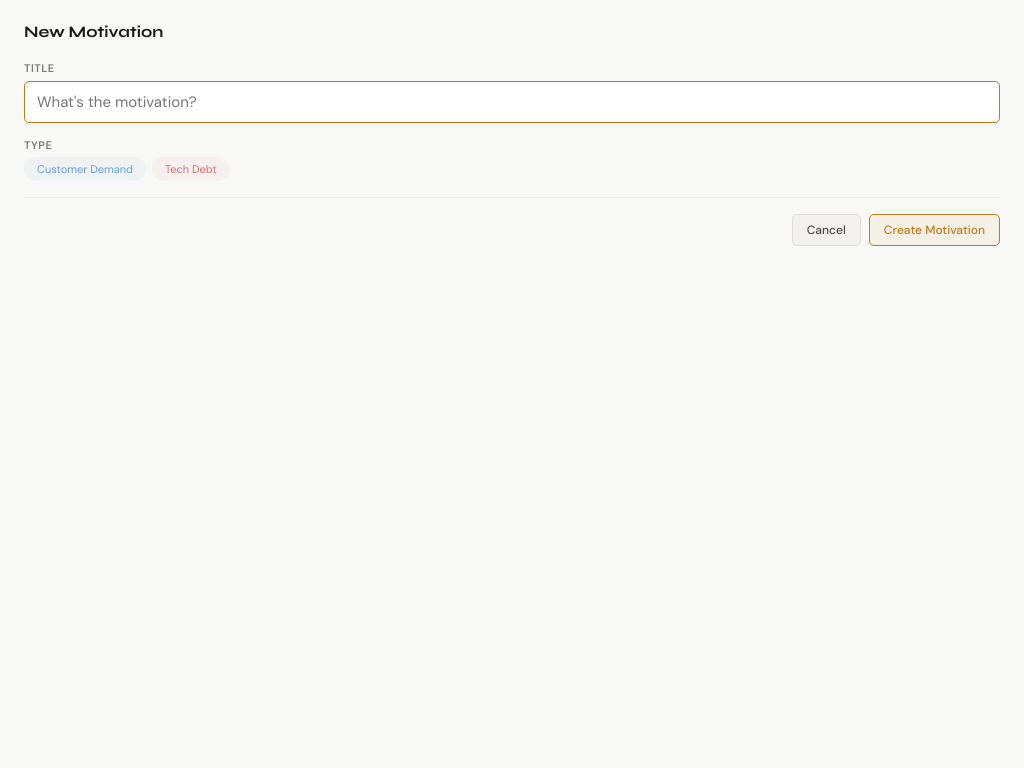
Test: MotivationForm › shows attribute fields after clicking "+ Add details"
What coordinates should you click on to do the following:
click the button with class "type-btn" showing "Customer Demand"
I would click on:
 (85, 169)
Its box is [24,157,146,181].
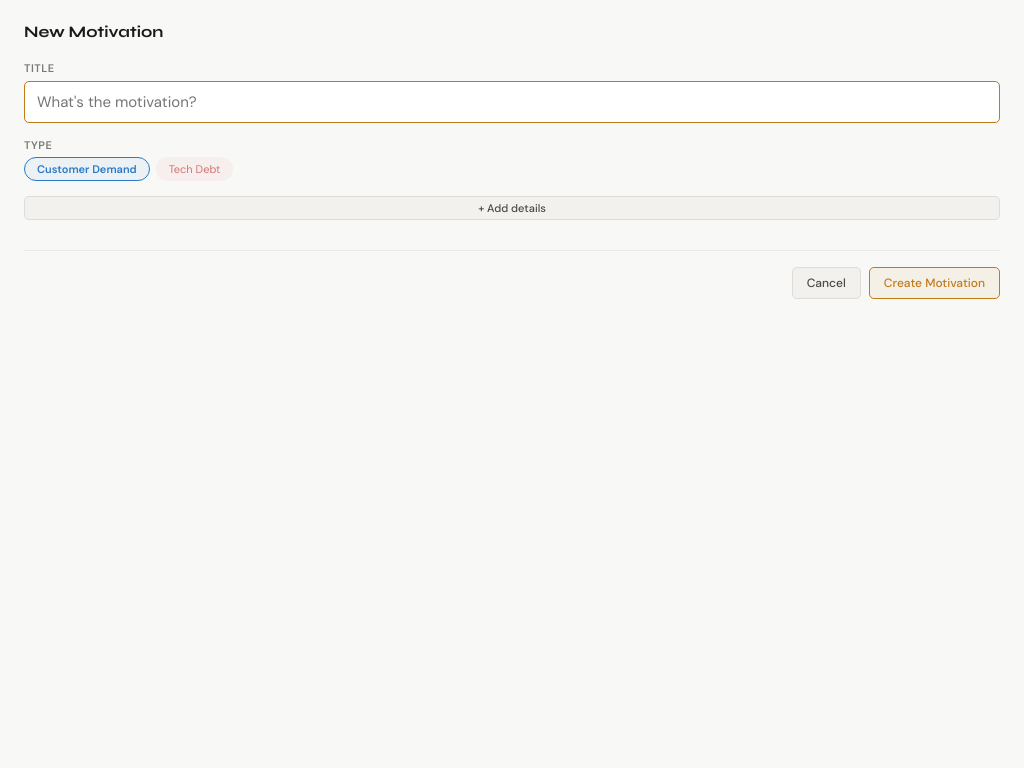
What coordinates should you click on to do the following:
click the button with class "expand-btn"
I would click on:
 (512, 208)
Its box is [24,196,1000,220].
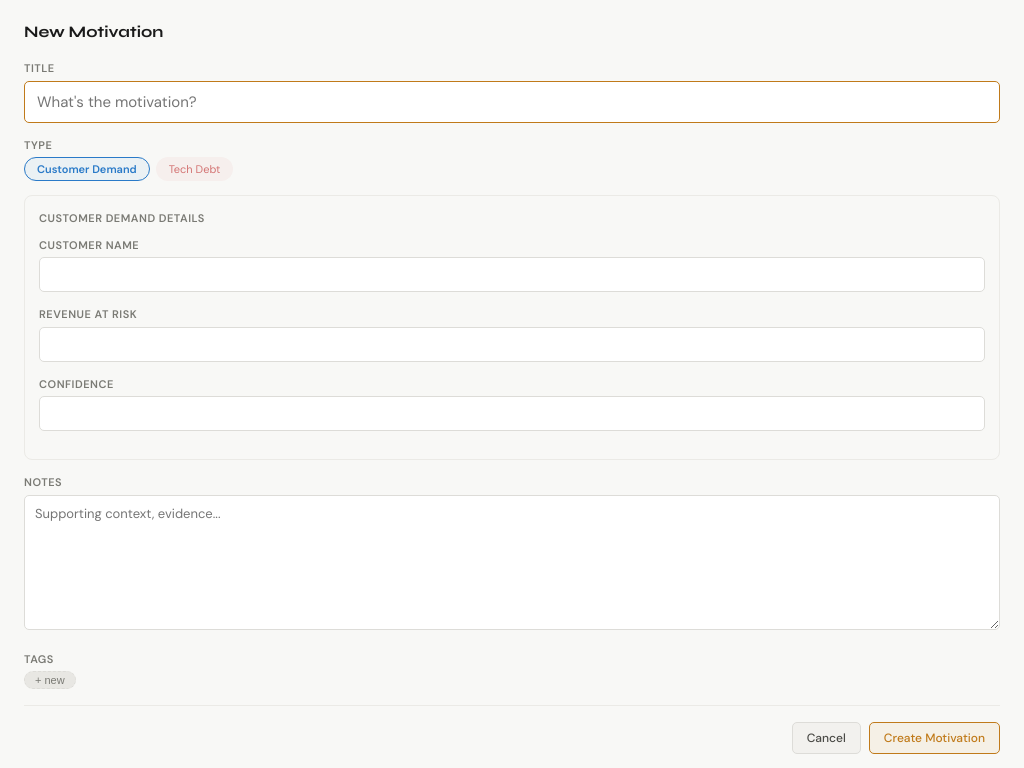
Expected: the element with class "attributes-section" is shown, [24,195,1000,460]
